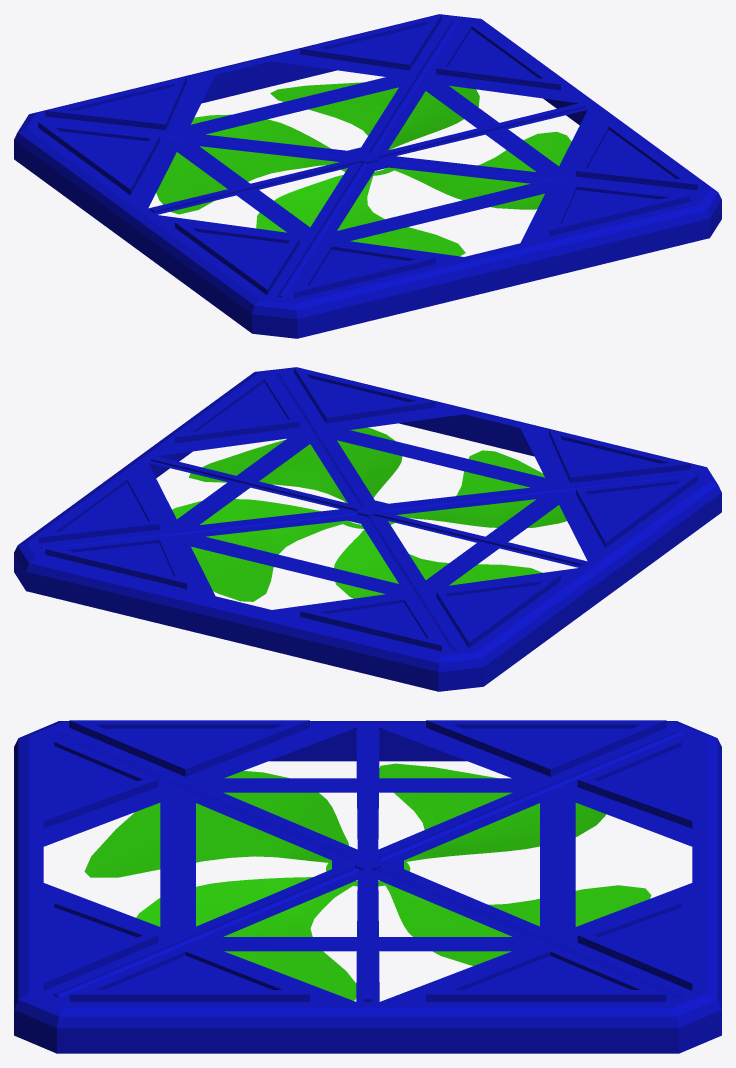
File: WindTrap.fbx
3 renders of one model, top to bottom at view 1: azimuth 30°, elevation 25°; view 2: azimuth 150°, elevation 25°; view 3: azimuth 270°, elevation 25°, orthographic. The views are drawn at different scales.
Parts seen in each view (by area): view 1: Helice_Base, Helice_Mesh; view 2: Helice_Base, Helice_Mesh; view 3: Helice_Base, Helice_Mesh.
Part boxes in pixels (<box>): Helice_Base: <box>14,14,721,338</box>; Helice_Mesh: <box>156,82,571,256</box>; Helice_Base: <box>14,367,721,691</box>; Helice_Mesh: <box>172,427,566,601</box>; Helice_Base: <box>14,720,721,1053</box>; Helice_Mesh: <box>84,763,651,1000</box>.
Size of the model in its own units: 78.74 by 5.73 by 78.74.
